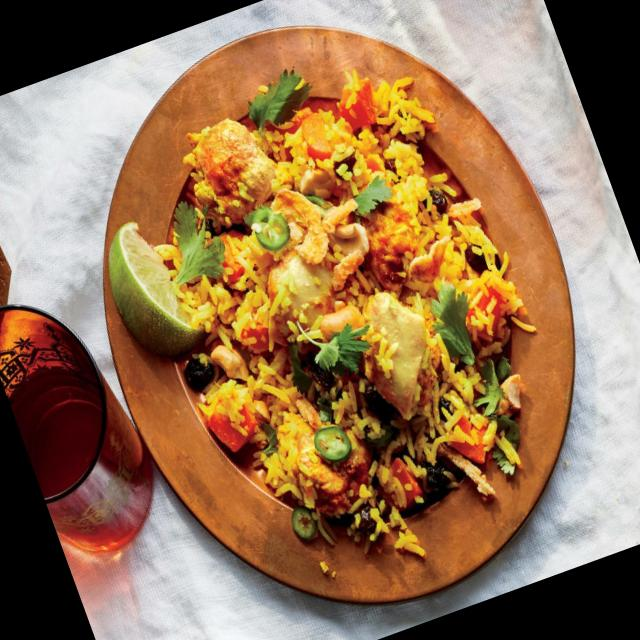Biryani: (60, 15, 600, 628)
